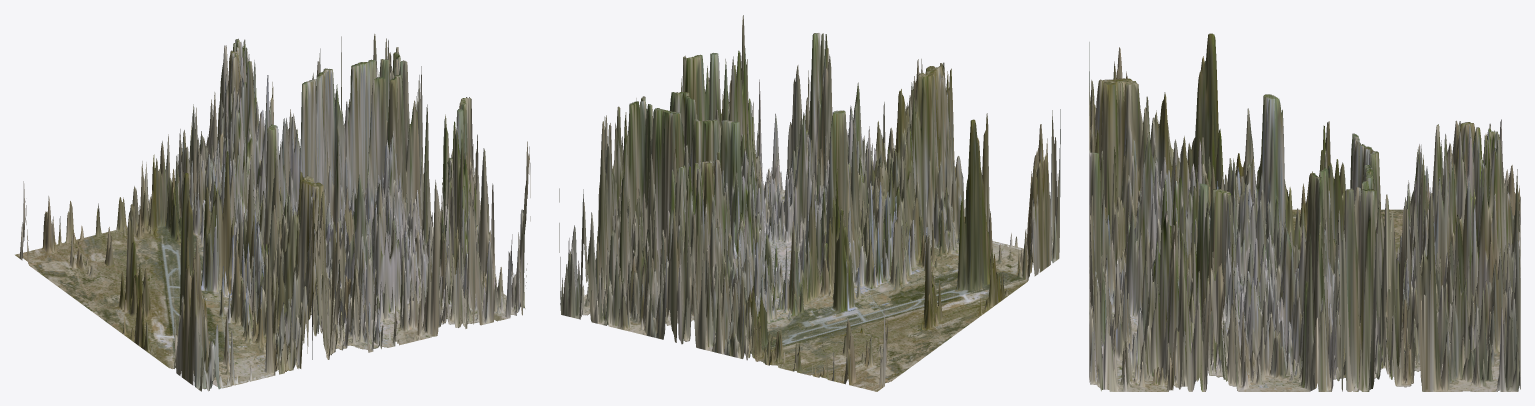
The model's file is dsm_4b0c6dae59_mesh.glb.
3 views of the same model, side by side, from view 1: azimuth 30°, elevation 25°; view 2: azimuth 150°, elevation 25°; view 3: azimuth 270°, elevation 25° (orthographic). The views are drawn at different scales.
Visible parts, largest first — view 1: geometry_0; view 2: geometry_0; view 3: geometry_0.
Boxes of the visible parts, left/top/right/bottom form: geometry_0: left=15, top=34, right=530, bottom=391; geometry_0: left=559, top=15, right=1060, bottom=391; geometry_0: left=1089, top=33, right=1520, bottom=391.
Bounding box in the file's own units: 2 × 1 × 2.
